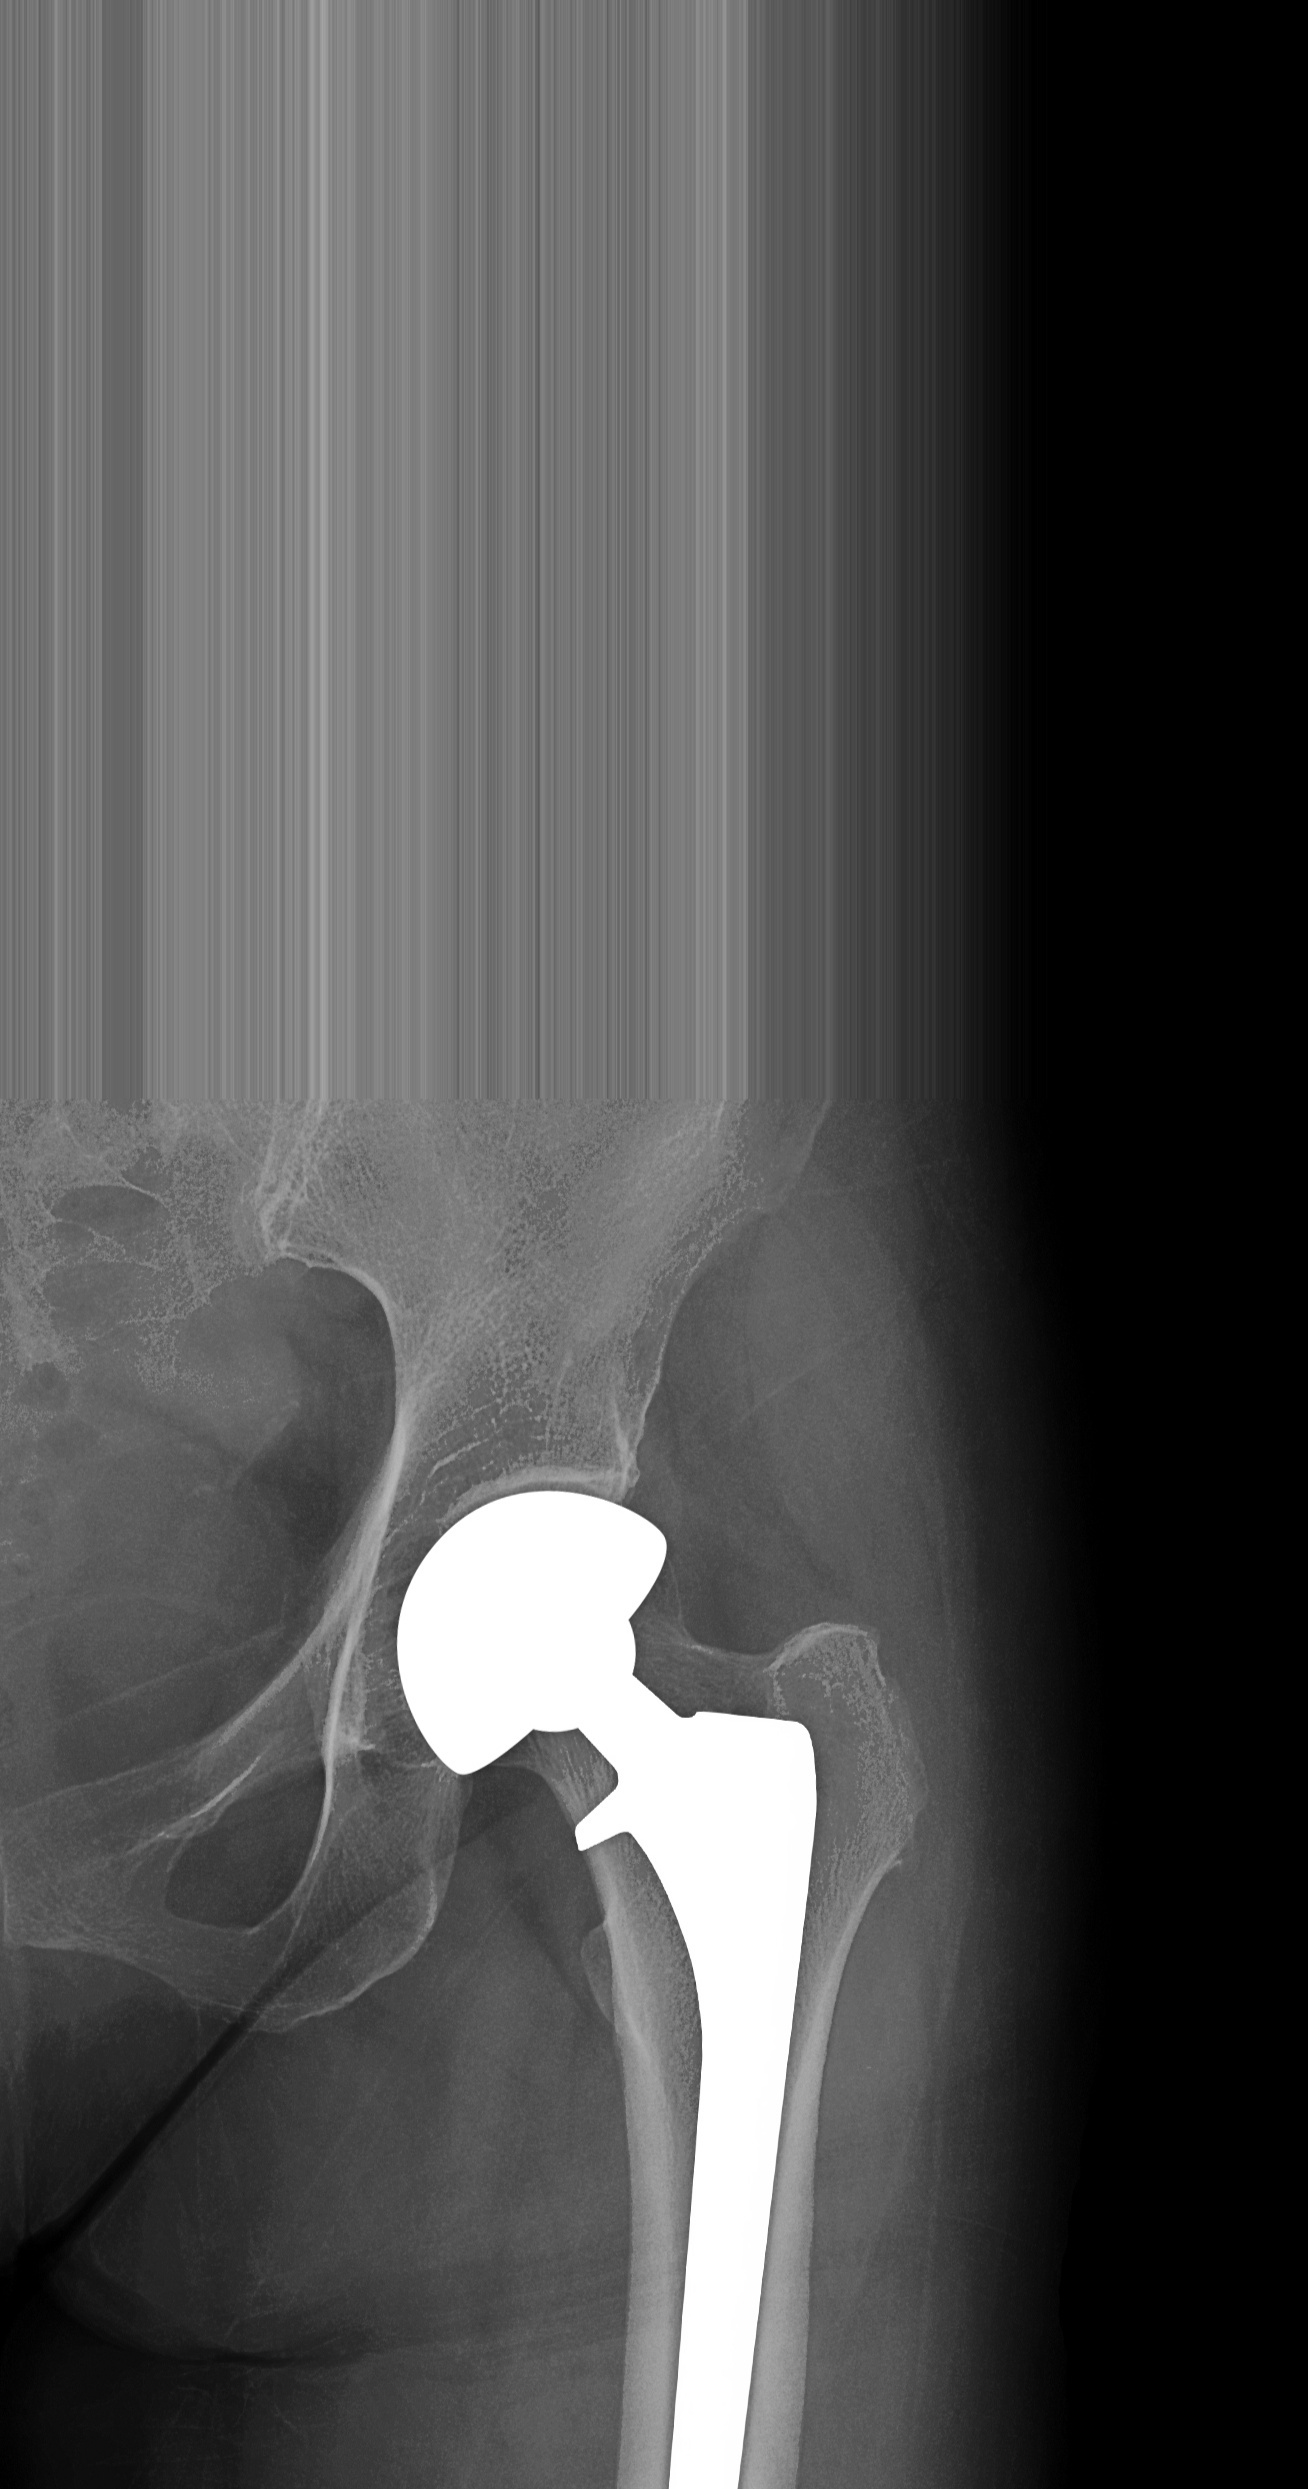Hip - APR - Zimmer: (369, 1473, 856, 2489)
